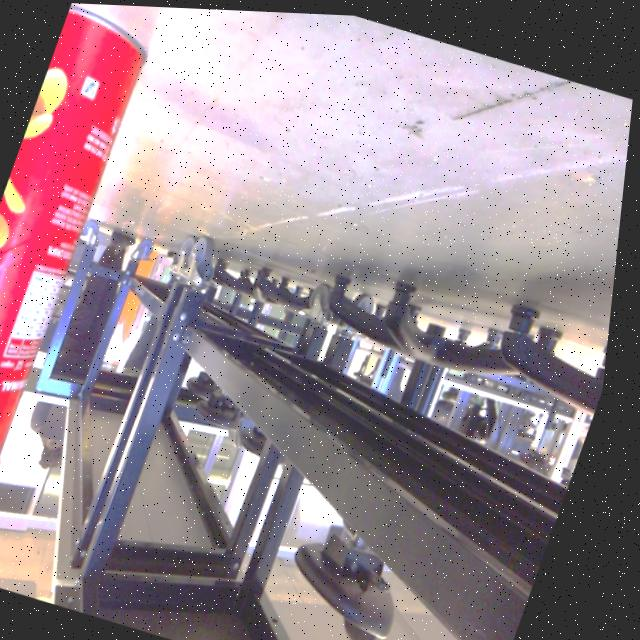redpringles: (0, 0, 171, 523)
